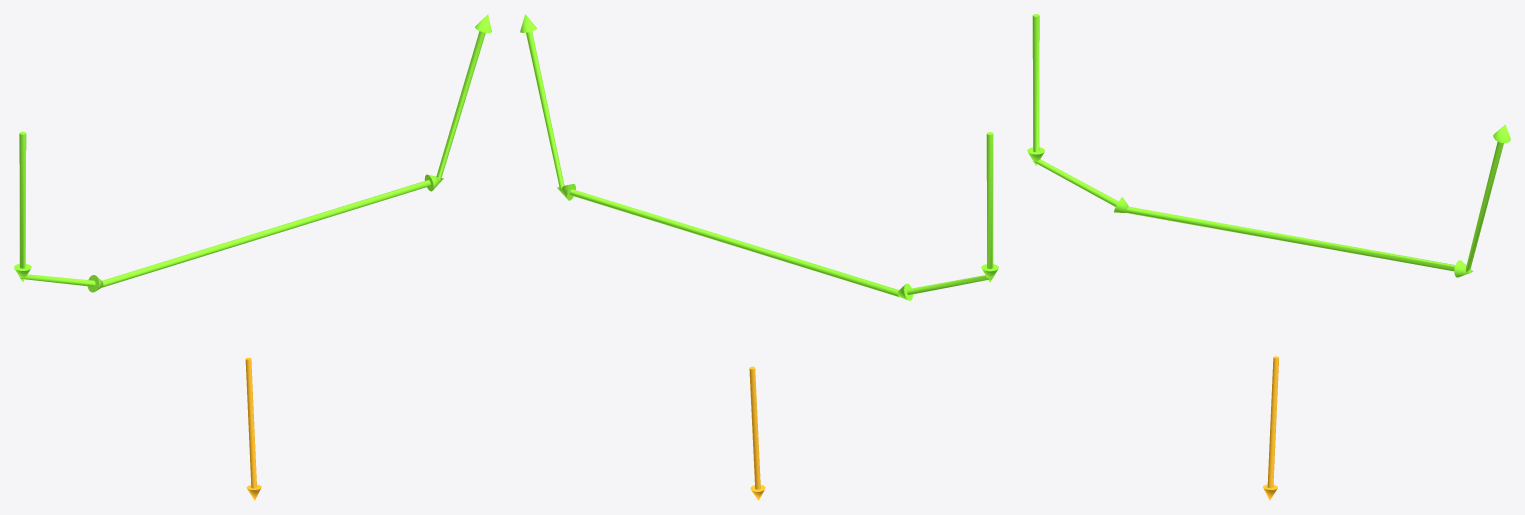
File: knockout_drum_flow.glb
The picture shows the model from 3 angles, left to right: view 1: azimuth 30°, elevation 25°; view 2: azimuth 150°, elevation 25°; view 3: azimuth 330°, elevation 25°; orthographic projection.
Visible parts, largest first — view 1: vapour, liquid_out; view 2: vapour, liquid_out; view 3: vapour, liquid_out.
Part boxes in pixels (left/top/right/bottom): vapour: left=14, top=14, right=491, bottom=292; liquid_out: left=245, top=357, right=261, bottom=500; vapour: left=520, top=14, right=998, bottom=300; liquid_out: left=749, top=366, right=765, bottom=500; vapour: left=1027, top=14, right=1510, bottom=277; liquid_out: left=1263, top=356, right=1278, bottom=500.
Bounding box in the file's own units: 2.26 × 1.95 × 0.1228.
